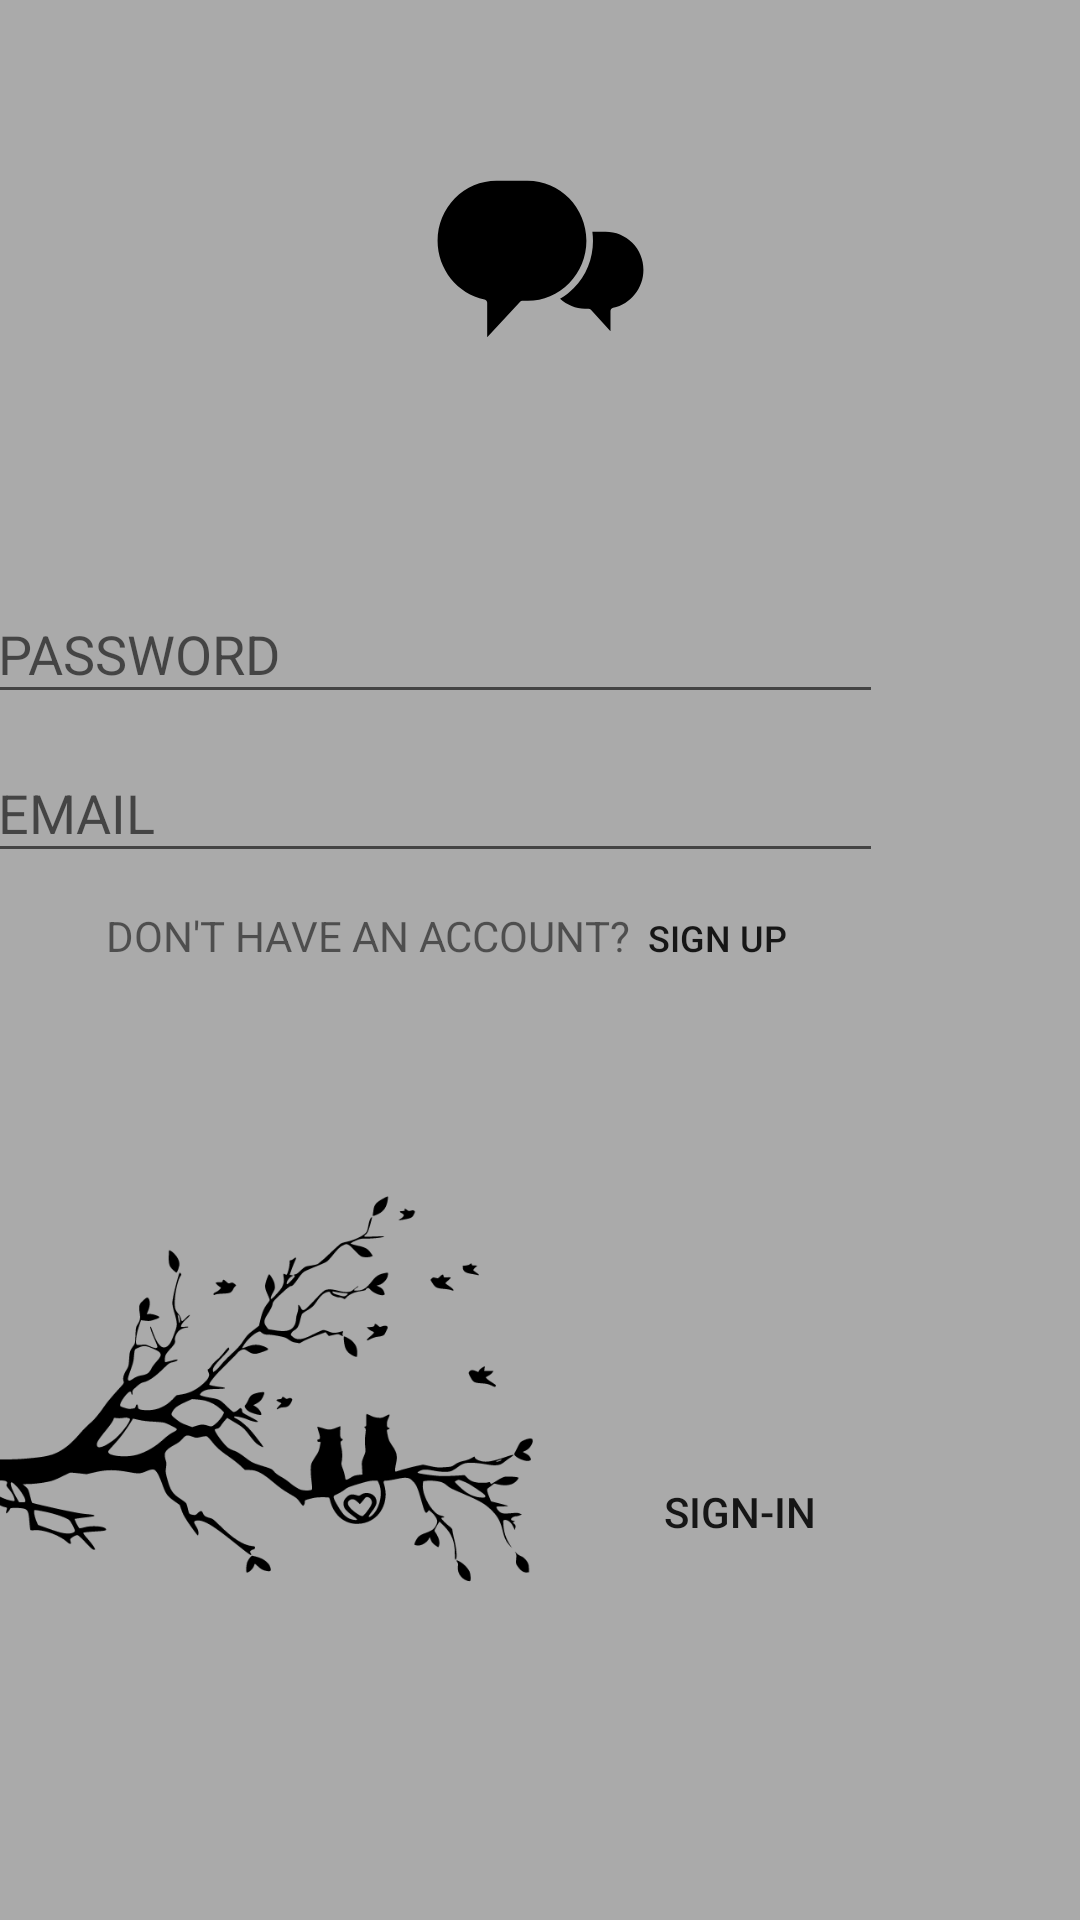

Point at icon controls on the screen. Image size 1080x1920, points as (x=x, y=y).
noun messaging: (x=540, y=258)
